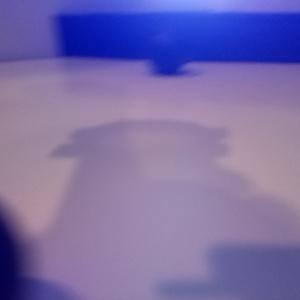dead_ball: (1, 194, 29, 300), (146, 28, 187, 72)
